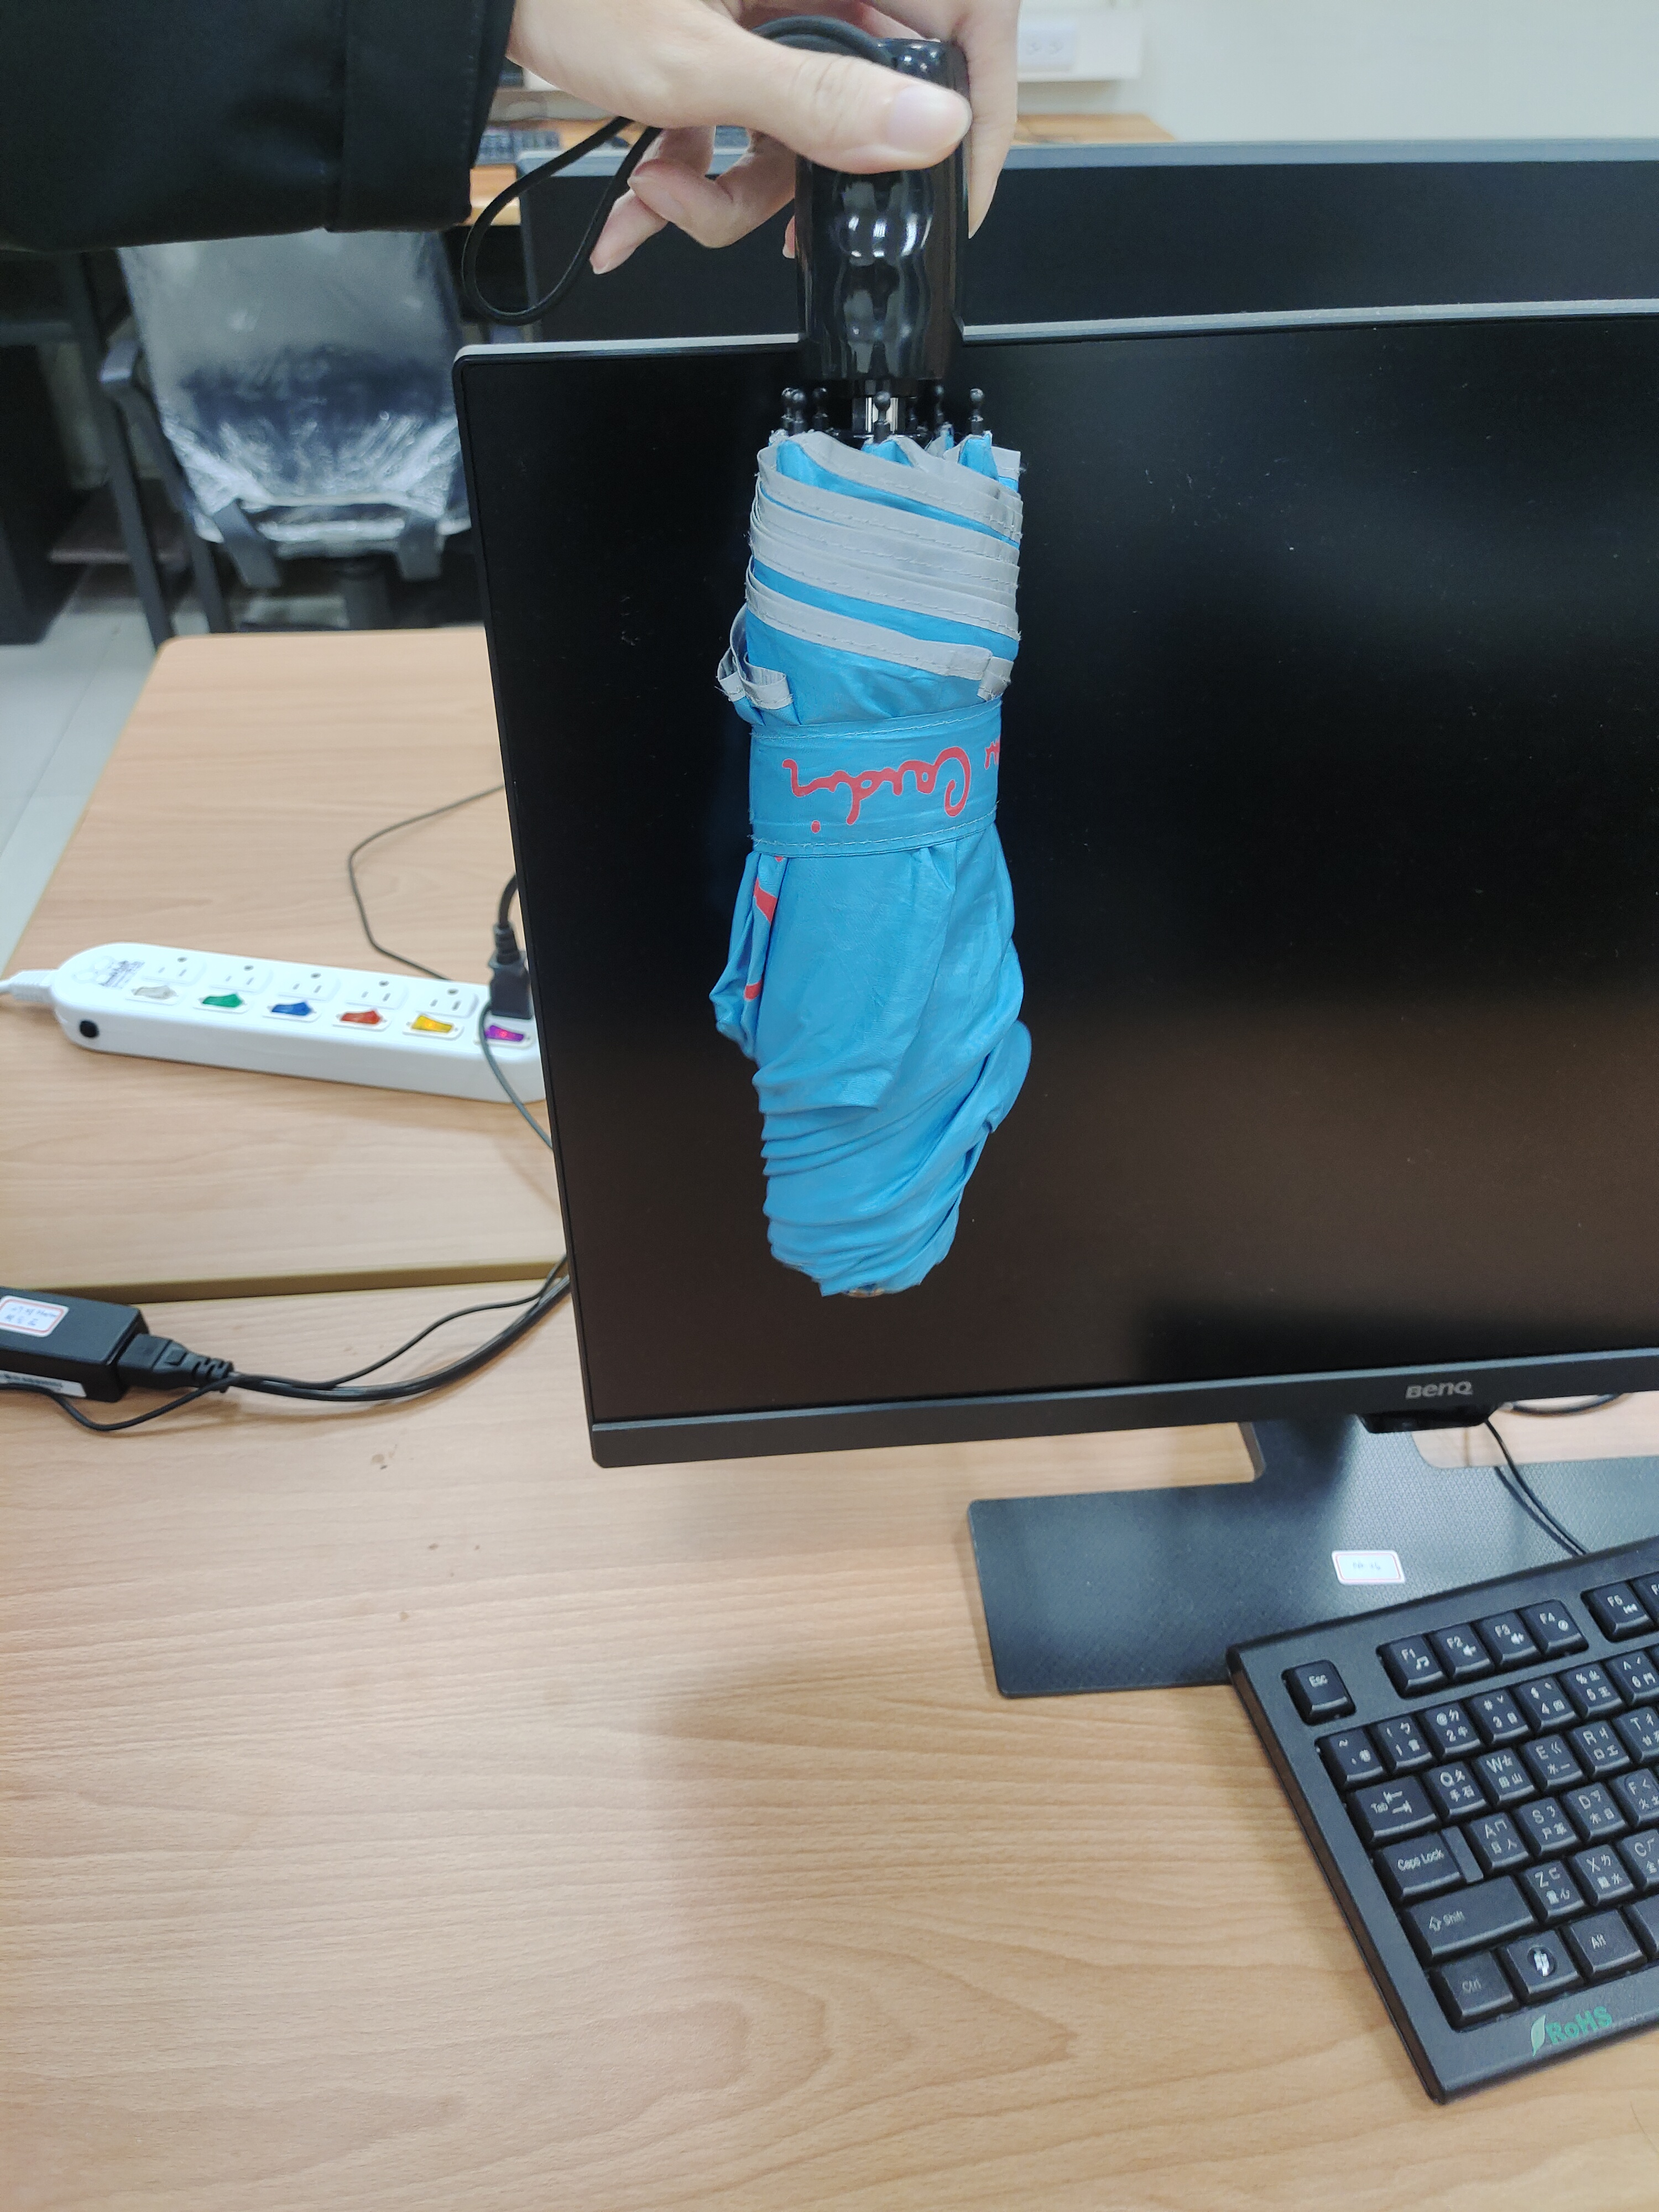Umbrella: (695, 14, 1053, 1324)
